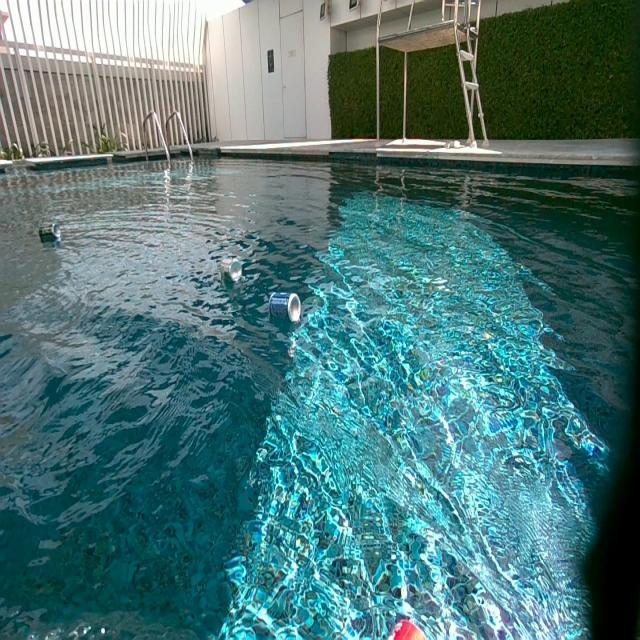Cans: (373, 620, 429, 640), (269, 291, 302, 322), (221, 260, 244, 284), (286, 294, 302, 325), (40, 225, 60, 244)
